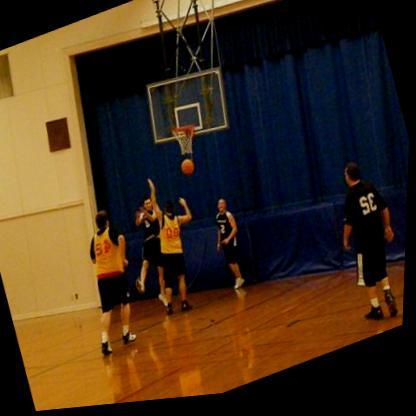basketball: (180, 161, 198, 182)
rim: (173, 125, 195, 140)
